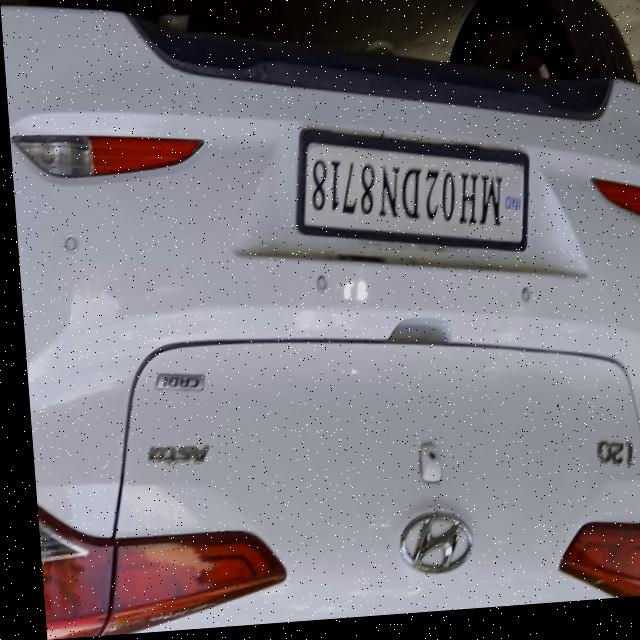plate: (285, 117, 532, 274)
